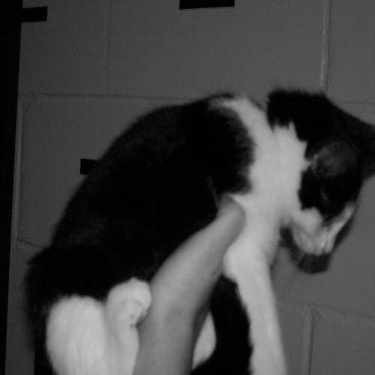cat: (12, 76, 369, 367)
